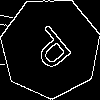P: (25, 23, 80, 79)
